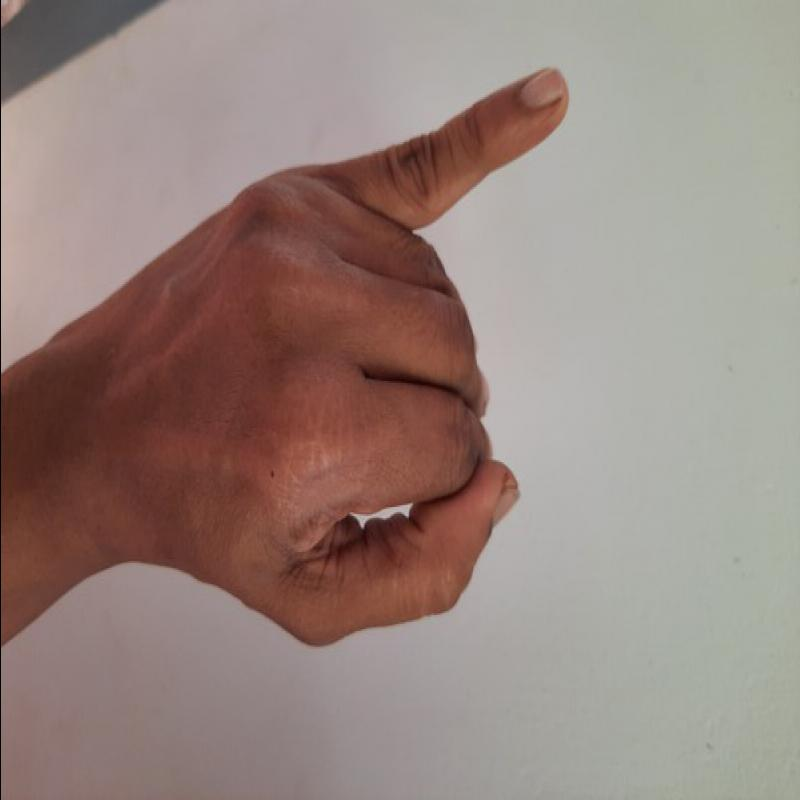Kartharee Mukham: (98, 55, 589, 661)
